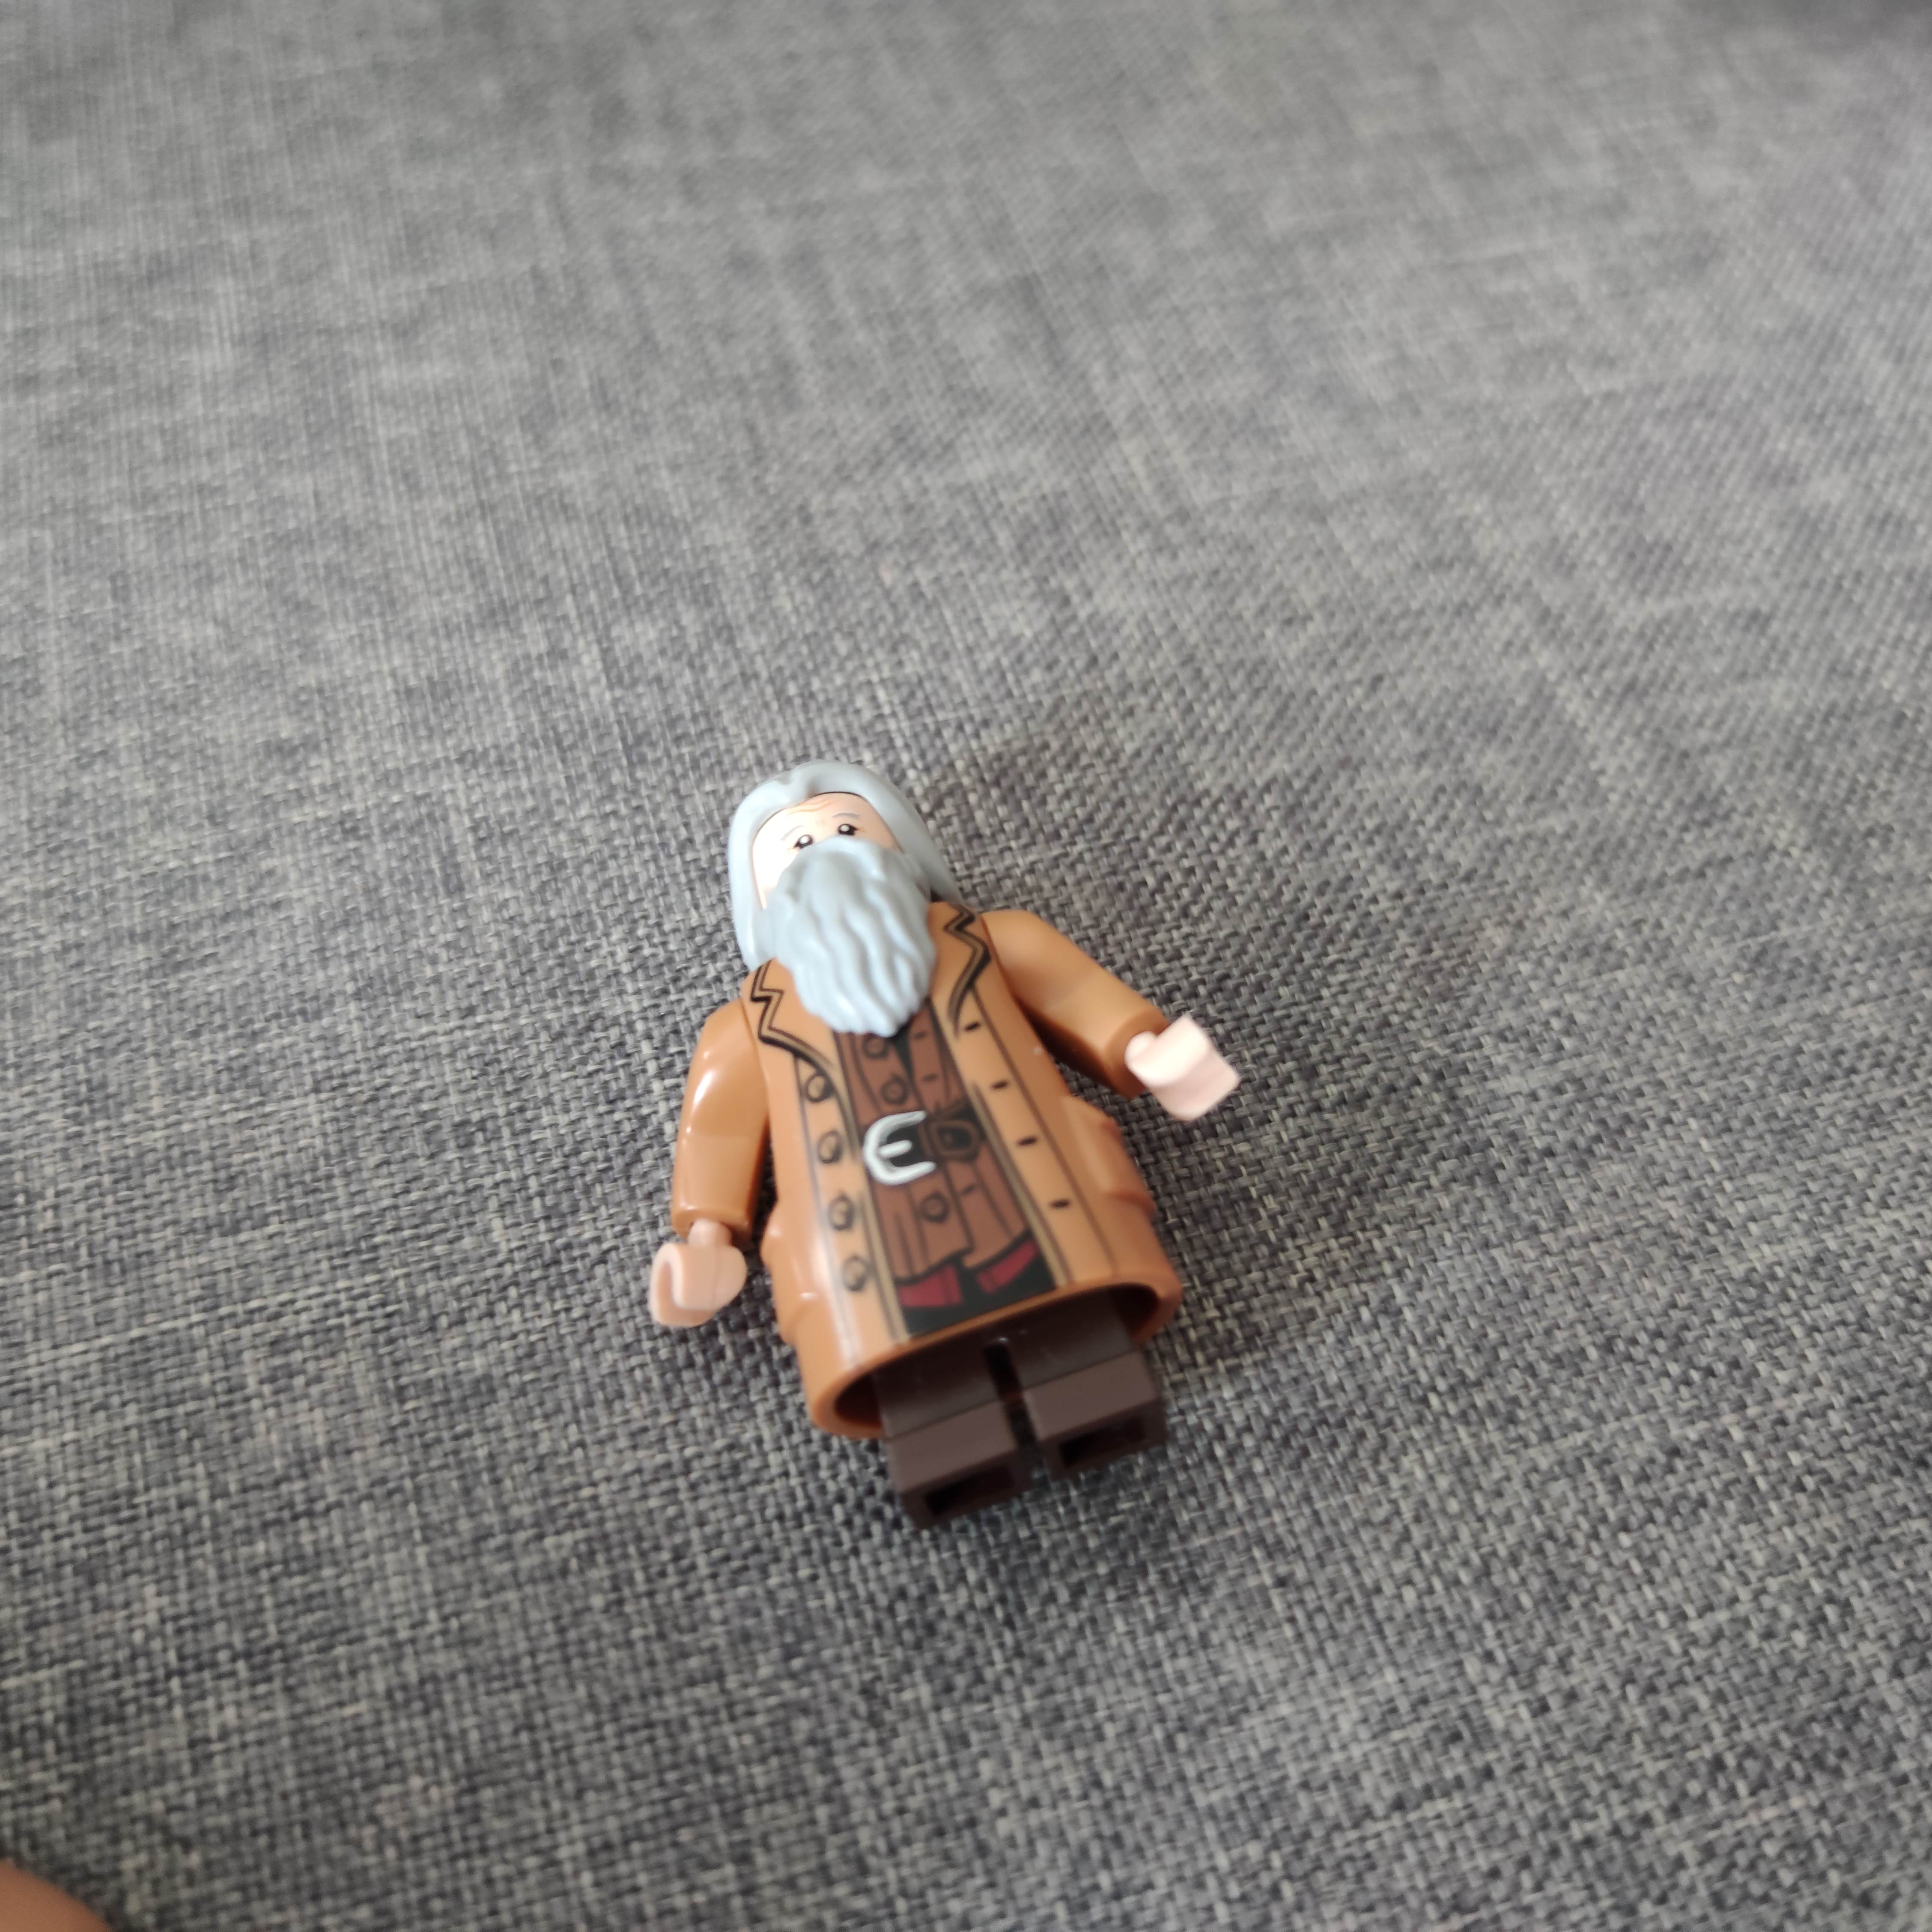lego: (633, 763, 1238, 1525)
